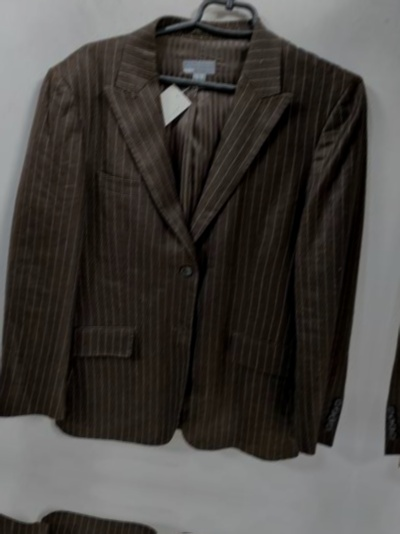Blazer: (0, 0, 400, 479), (370, 44, 400, 534), (0, 493, 330, 534)
